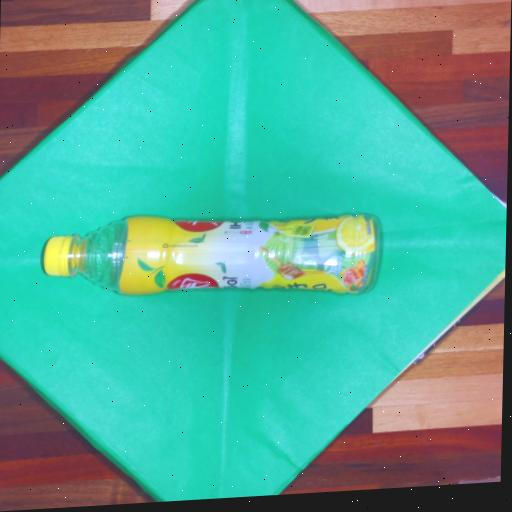bottle: (43, 214, 378, 294)
